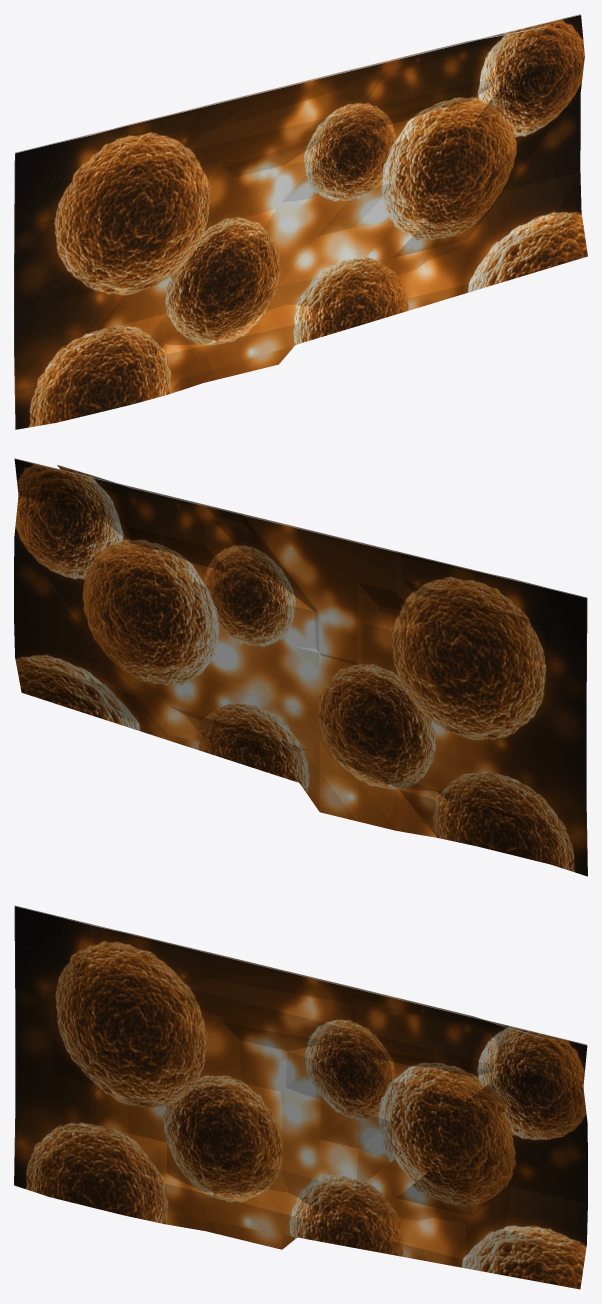
The model's file is microcells.glb.
The picture shows the model from 3 angles, top to bottom: view 1: azimuth 30°, elevation 25°; view 2: azimuth 150°, elevation 25°; view 3: azimuth 330°, elevation 25°; orthographic projection.
Visible parts, largest first — view 1: model.001; view 2: model.001; view 3: model.001.
Part boxes in pixels (x1,y1,x2,y2): model.001: (14,14,587,429); model.001: (14,458,587,876); model.001: (14,905,587,1289).
Size of the model in its own units: 750 by 350 by 17.71.
Materials: 1 (1 with a texture image).
